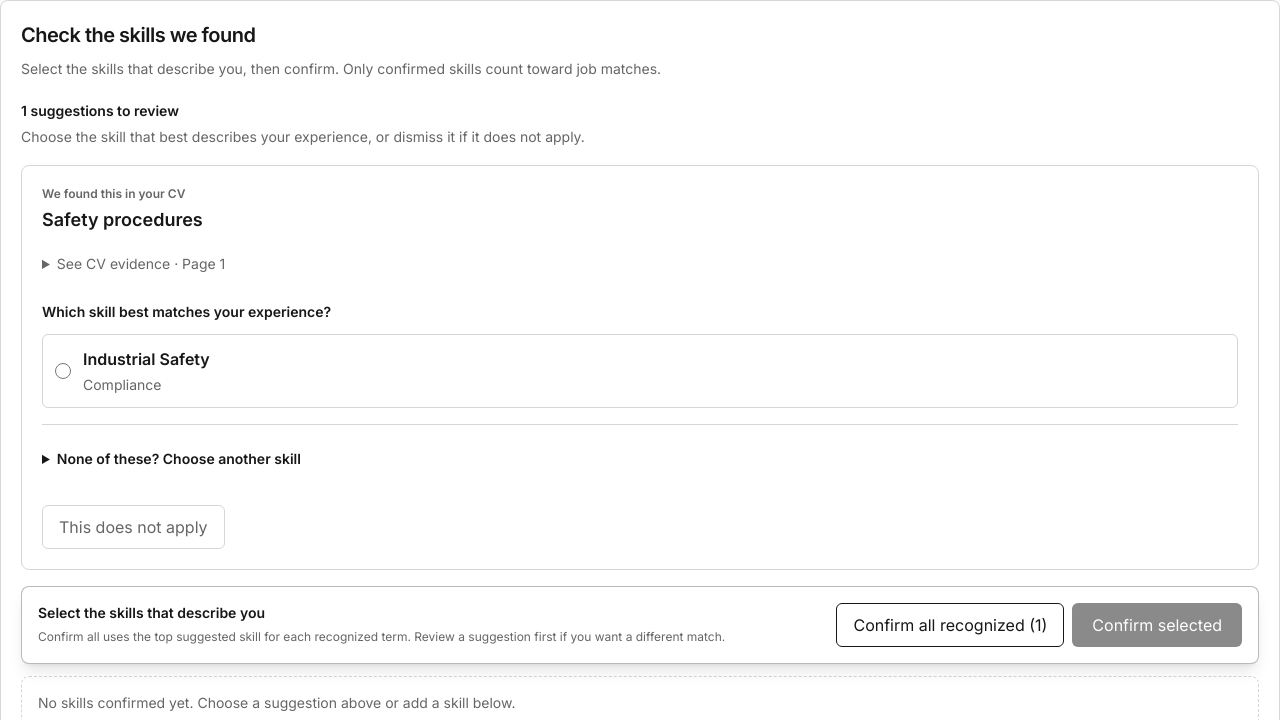
Scenario: QualificationReview › confirms selected CV skills once and shows positive match gains
Expected: the number of buttons "Confirm selected" is 1, x1=1072 y1=603 x2=1242 y2=647
Click the radio button labelled "Industrial Safety Compliance": click(63, 371) x1=55 y1=363 x2=71 y2=379
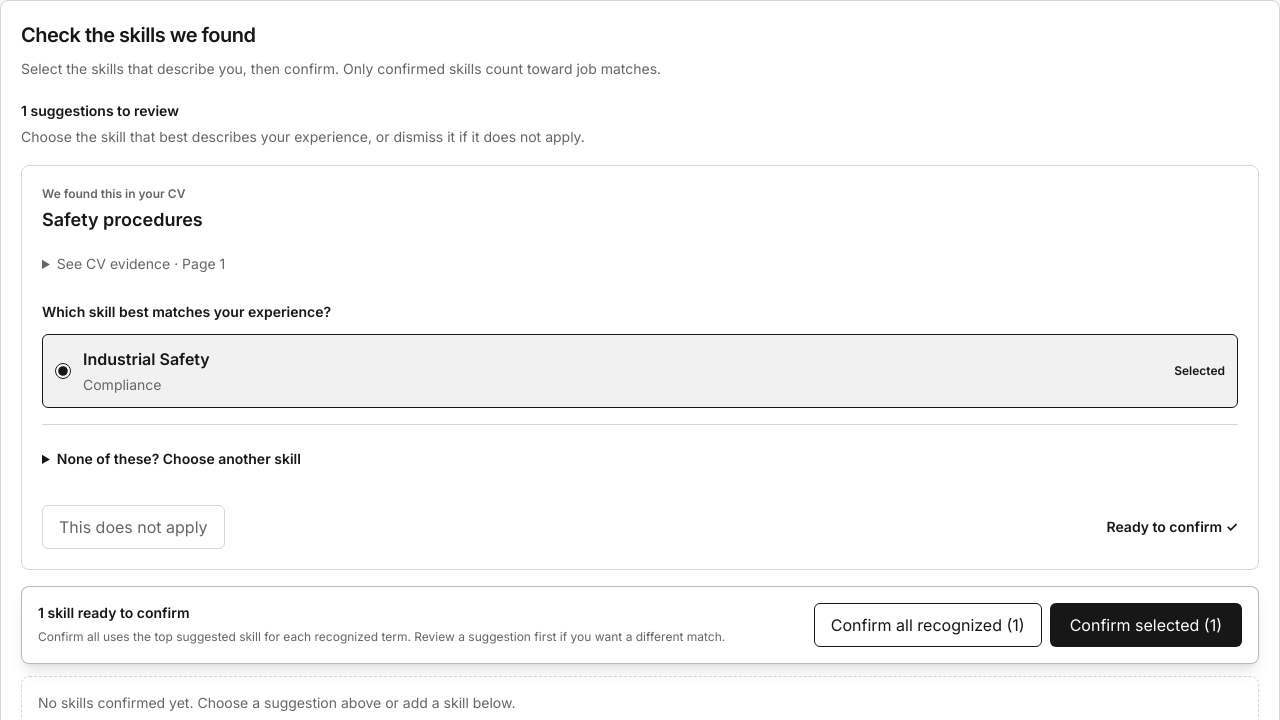
Click the button "Confirm selected (1)": click(1146, 625) x1=1050 y1=603 x2=1242 y2=647
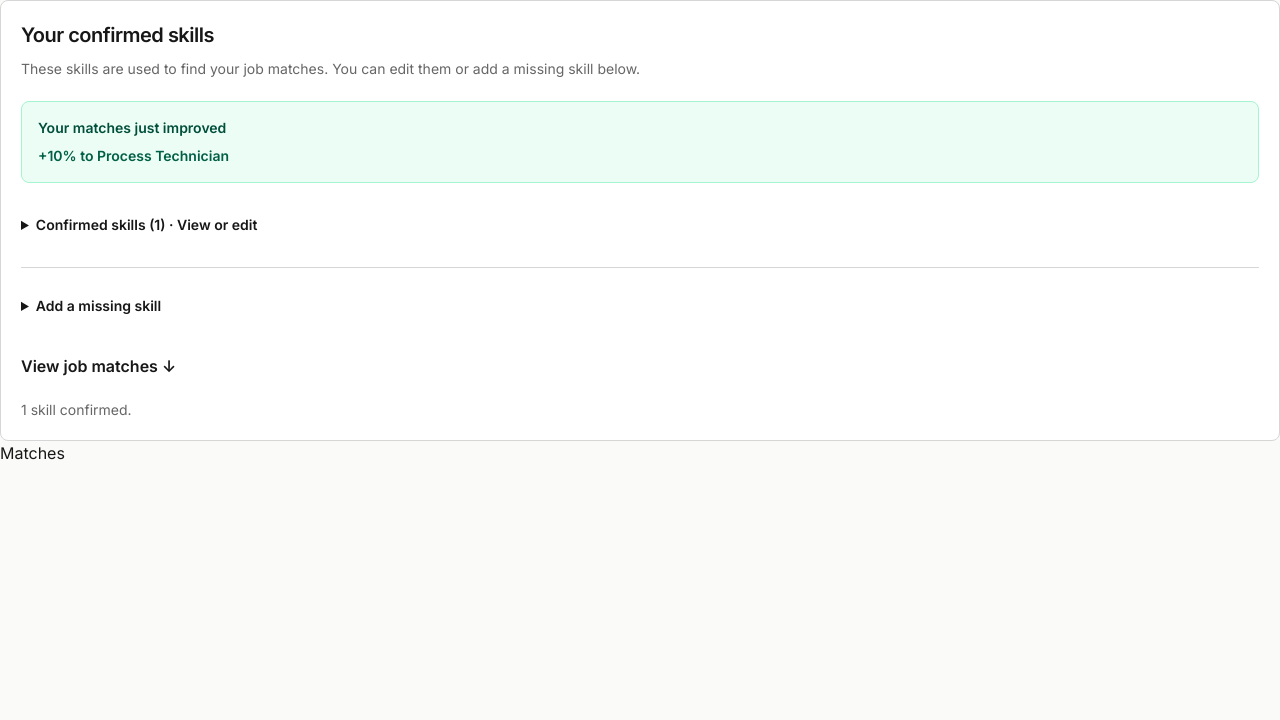
Expected: the list item "+10% to Process Technician" is shown, x1=38 y1=147 x2=229 y2=164
